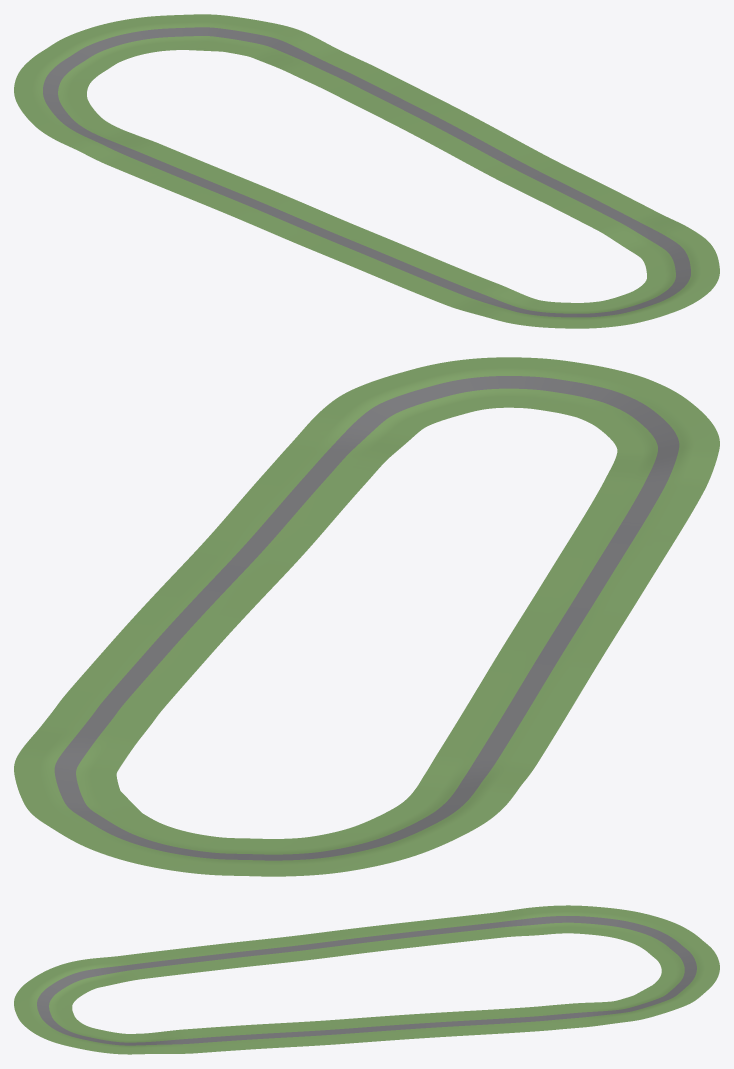
File: road_mesh.glb
The picture shows the model from 3 angles, top to bottom: view 1: azimuth 30°, elevation 25°; view 2: azimuth 150°, elevation 25°; view 3: azimuth 270°, elevation 25°; orthographic projection. The views are drawn at different scales.
Visible parts, largest first — view 1: road_08, road_07, road_05, road_03, road_04, road_06, road_11, road_09, road_00, road_10, road_01, road_02; view 2: road_02, road_03, road_06, road_04, road_05, road_07, road_00, road_01, road_11, road_10, road_08, road_09; view 3: road_09, road_10, road_01, road_02, road_11, road_00, road_05, road_08, road_06, road_04, road_07, road_03.
Boxes of the visible parts, bbox=[...] form: road_08: bbox=[46, 14, 222, 69]; road_07: bbox=[206, 15, 364, 83]; road_05: bbox=[412, 114, 569, 187]; road_03: bbox=[615, 219, 719, 297]; road_04: bbox=[514, 168, 672, 240]; road_06: bbox=[311, 62, 468, 133]; road_11: bbox=[153, 162, 318, 231]; road_09: bbox=[14, 49, 106, 127]; road_00: bbox=[268, 210, 432, 278]; road_10: bbox=[37, 118, 203, 183]; road_01: bbox=[382, 257, 541, 323]; road_02: bbox=[515, 287, 701, 328]; road_02: bbox=[510, 357, 718, 448]; road_03: bbox=[303, 357, 512, 450]; road_06: bbox=[57, 612, 233, 718]; road_04: bbox=[221, 430, 396, 538]; road_05: bbox=[138, 523, 316, 628]; road_07: bbox=[14, 705, 155, 808]; road_00: bbox=[517, 531, 673, 634]; road_01: bbox=[575, 436, 719, 541]; road_11: bbox=[460, 624, 616, 727]; road_10: bbox=[398, 717, 559, 823]; road_08: bbox=[27, 791, 252, 875]; road_09: bbox=[247, 806, 482, 876]; road_09: bbox=[573, 905, 702, 954]; road_10: bbox=[440, 905, 576, 942]; road_01: bbox=[62, 947, 207, 987]; road_02: bbox=[14, 964, 96, 1029]; road_11: bbox=[316, 918, 455, 957]; road_00: bbox=[192, 933, 331, 971]; road_05: bbox=[290, 1014, 426, 1046]; road_08: bbox=[634, 940, 719, 1004]; road_06: bbox=[418, 1006, 555, 1037]; road_04: bbox=[164, 1022, 298, 1053]; road_07: bbox=[543, 992, 686, 1029]; road_03: bbox=[29, 1022, 170, 1054].
Bounding box in the file's own units: 464 × 7.76 × 919.
